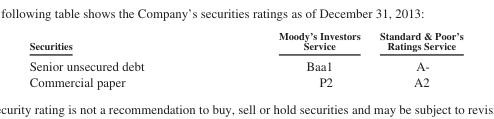table: (28, 29, 462, 88)
table column: (28, 29, 210, 88), (210, 29, 369, 88), (369, 29, 462, 88)
table column header: (28, 29, 462, 55)
table row: (28, 29, 462, 55), (28, 55, 462, 73), (28, 73, 462, 88)
